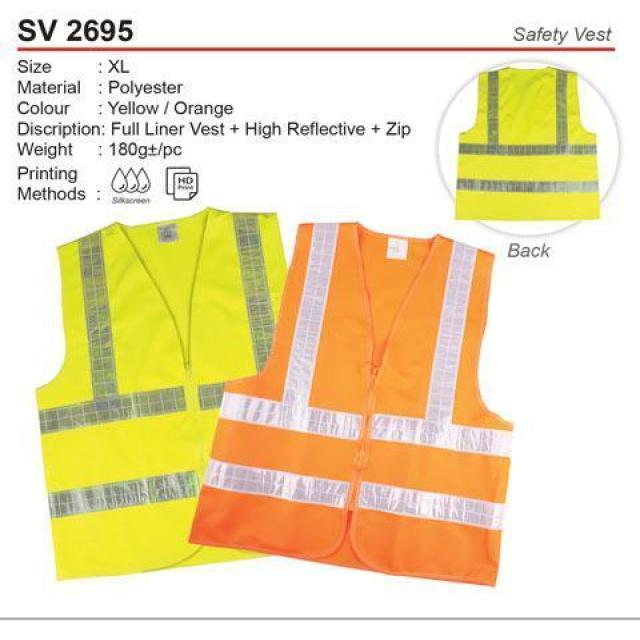Vest: (187, 216, 513, 592), (32, 209, 291, 577), (452, 64, 604, 221)
